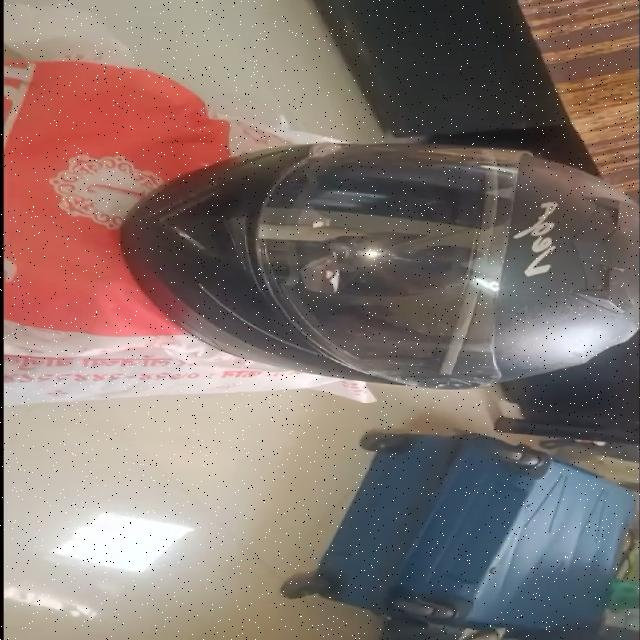Helmet: (116, 136, 635, 391)
